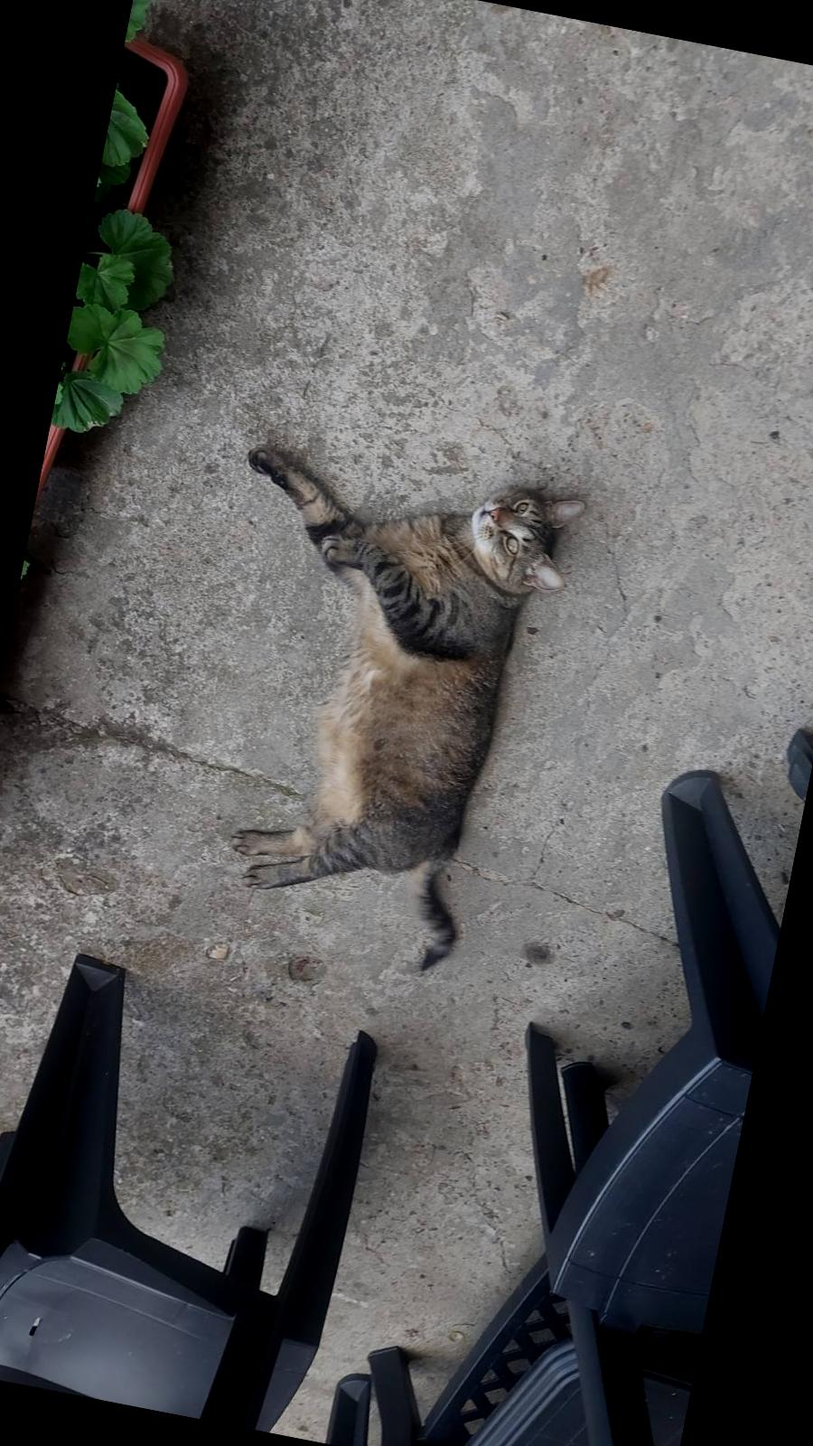macka: (160, 437, 587, 985)
